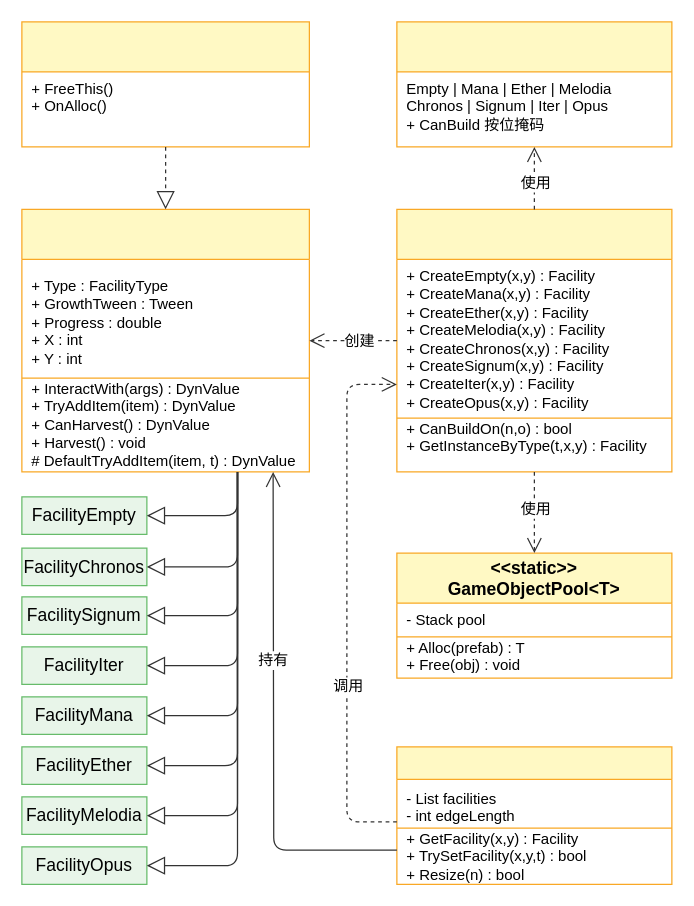
The diagram is 694 pixels wide and 906 high, and some of its shapes have lost their labels. The shapes that lost their labels are listed below. From the top down, each one's box as (x1, y1, x2, y2) in pixels, then its label:
(21, 21, 309, 147): <<interface>> IPoolable<T>
(396, 21, 672, 147): <<enumeration>> FacilityType
(21, 208, 309, 472): <<abstract>> Facility
(396, 208, 672, 472): <<static>> FacilityFactory
(396, 746, 672, 884): WorkspaceManager
